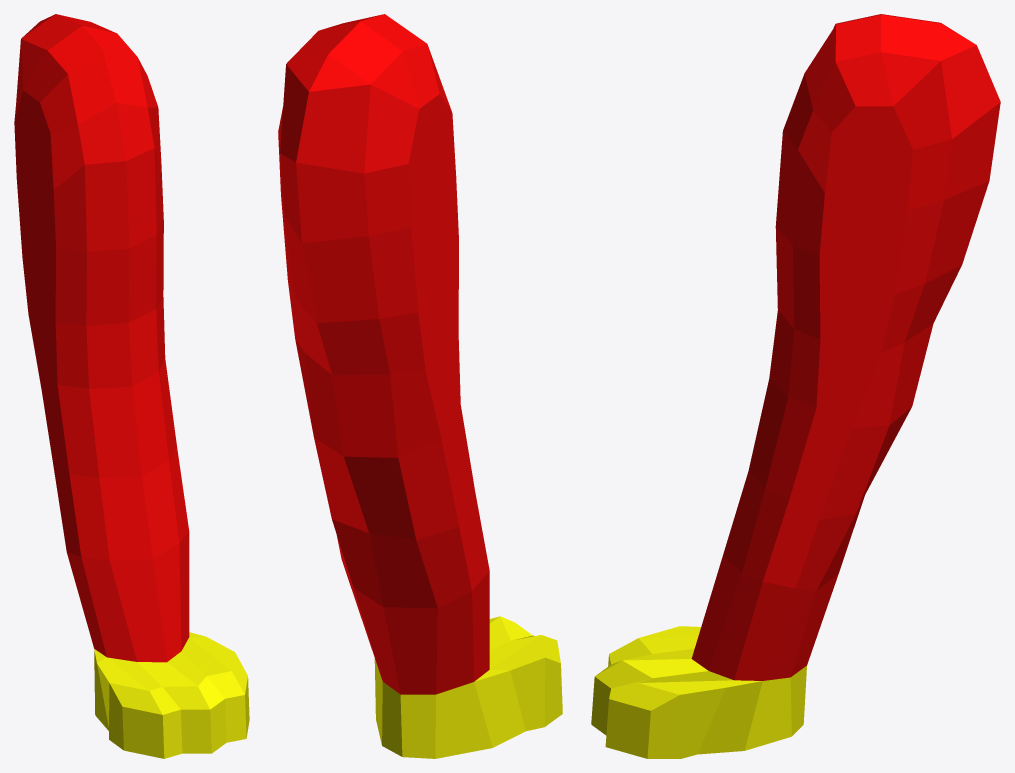
Rendered from Mo_Twolf_Arm.fbx.
3 renders of one model, left to right at view 1: azimuth 30°, elevation 25°; view 2: azimuth 150°, elevation 25°; view 3: azimuth 270°, elevation 25°, orthographic. The views are drawn at different scales.
Visible parts, largest first — view 1: Arm.002; view 2: Arm.002; view 3: Arm.002.
Boxes of the visible parts, x1,y1,x2,y2 form: Arm.002: (14,14,249,758); Arm.002: (278,14,562,758); Arm.002: (591,14,1000,758).
Size of the model in its own units: 158 by 760 by 398.
